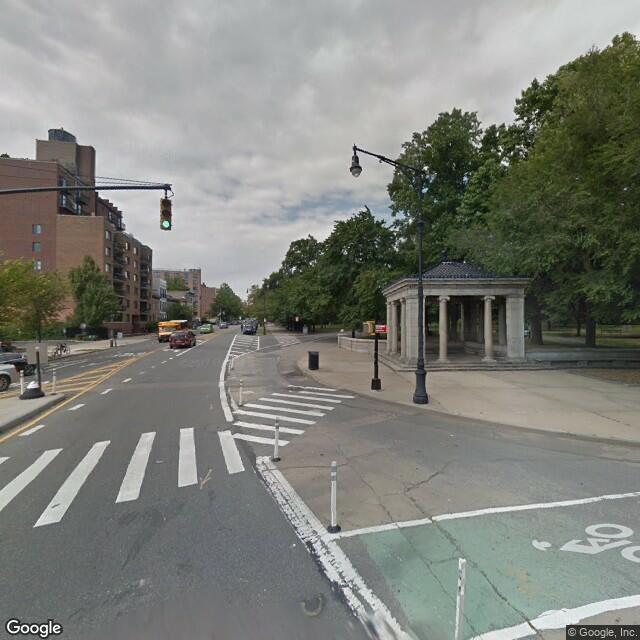litter: (293, 542, 297, 546)
